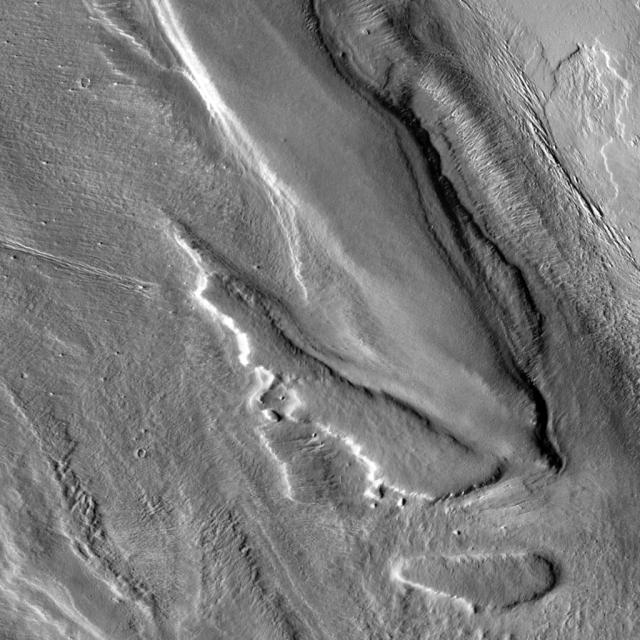crater: (81, 77, 91, 87), (140, 450, 148, 458), (22, 370, 28, 376)
